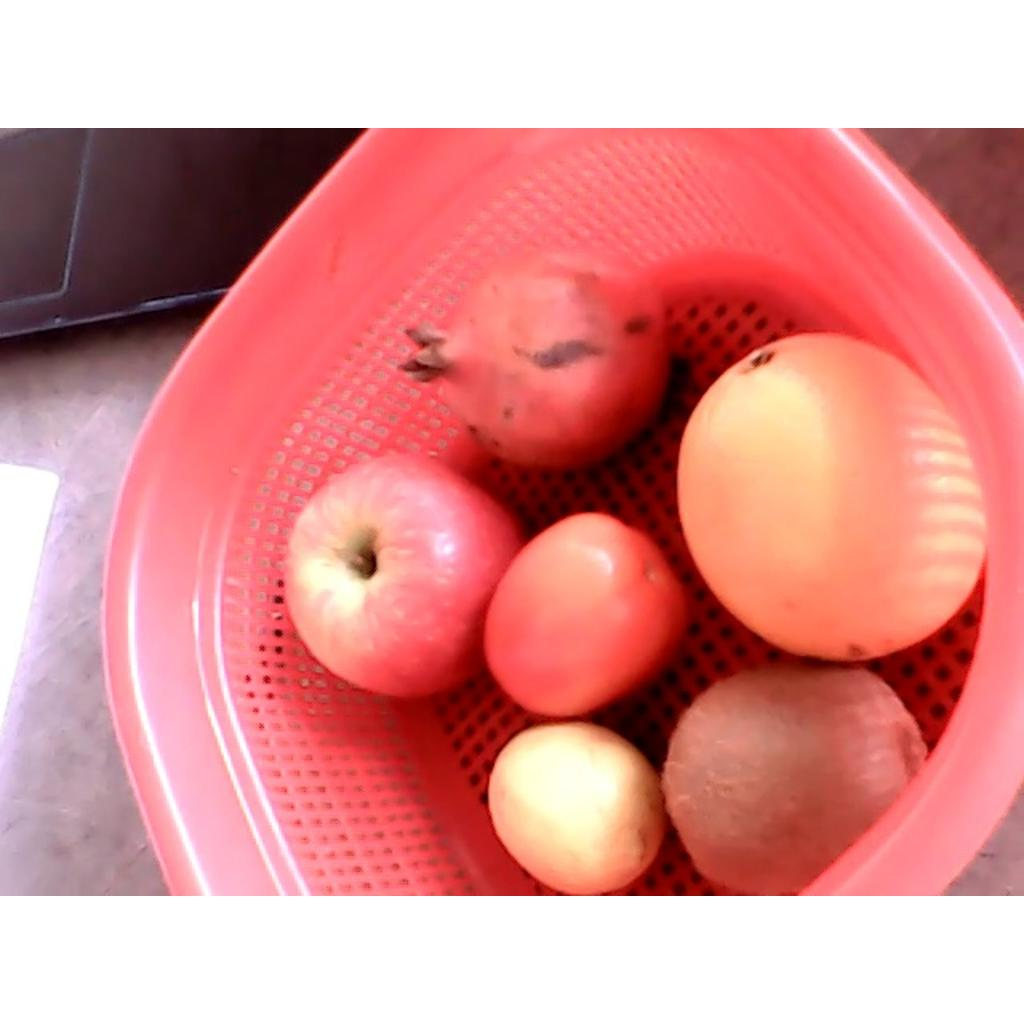apple: (280, 452, 525, 698)
kiwi: (666, 664, 930, 892)
lemon: (487, 720, 665, 894)
orange: (678, 331, 987, 660)
pomegranate: (399, 232, 669, 471)
tomato: (485, 511, 689, 718)
